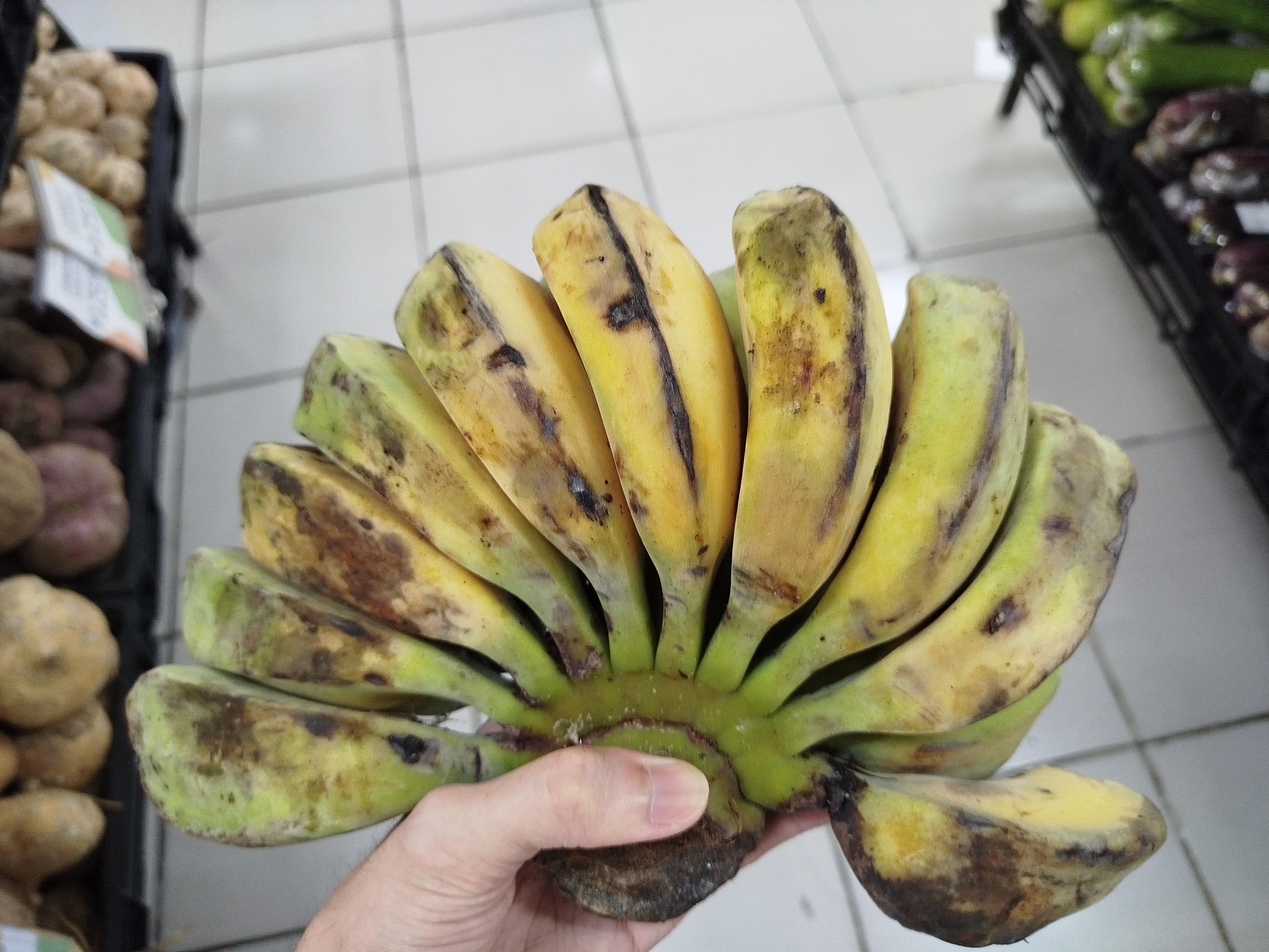underripe: (127, 185, 1165, 945)
